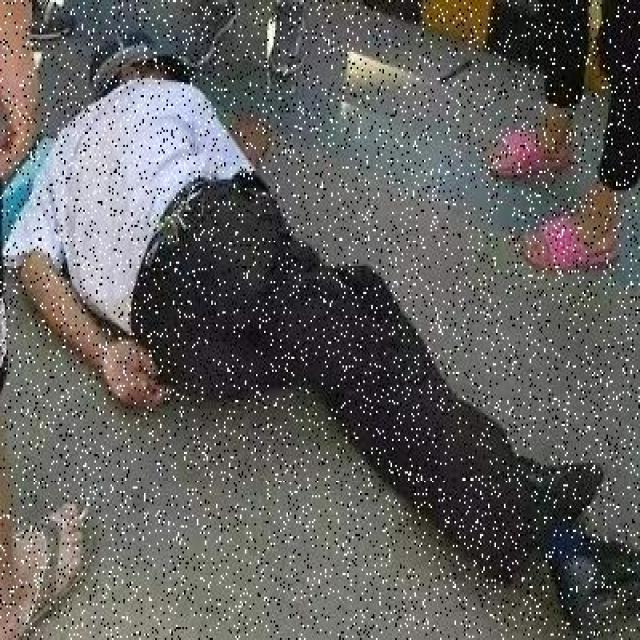fall: (40, 43, 491, 508)
